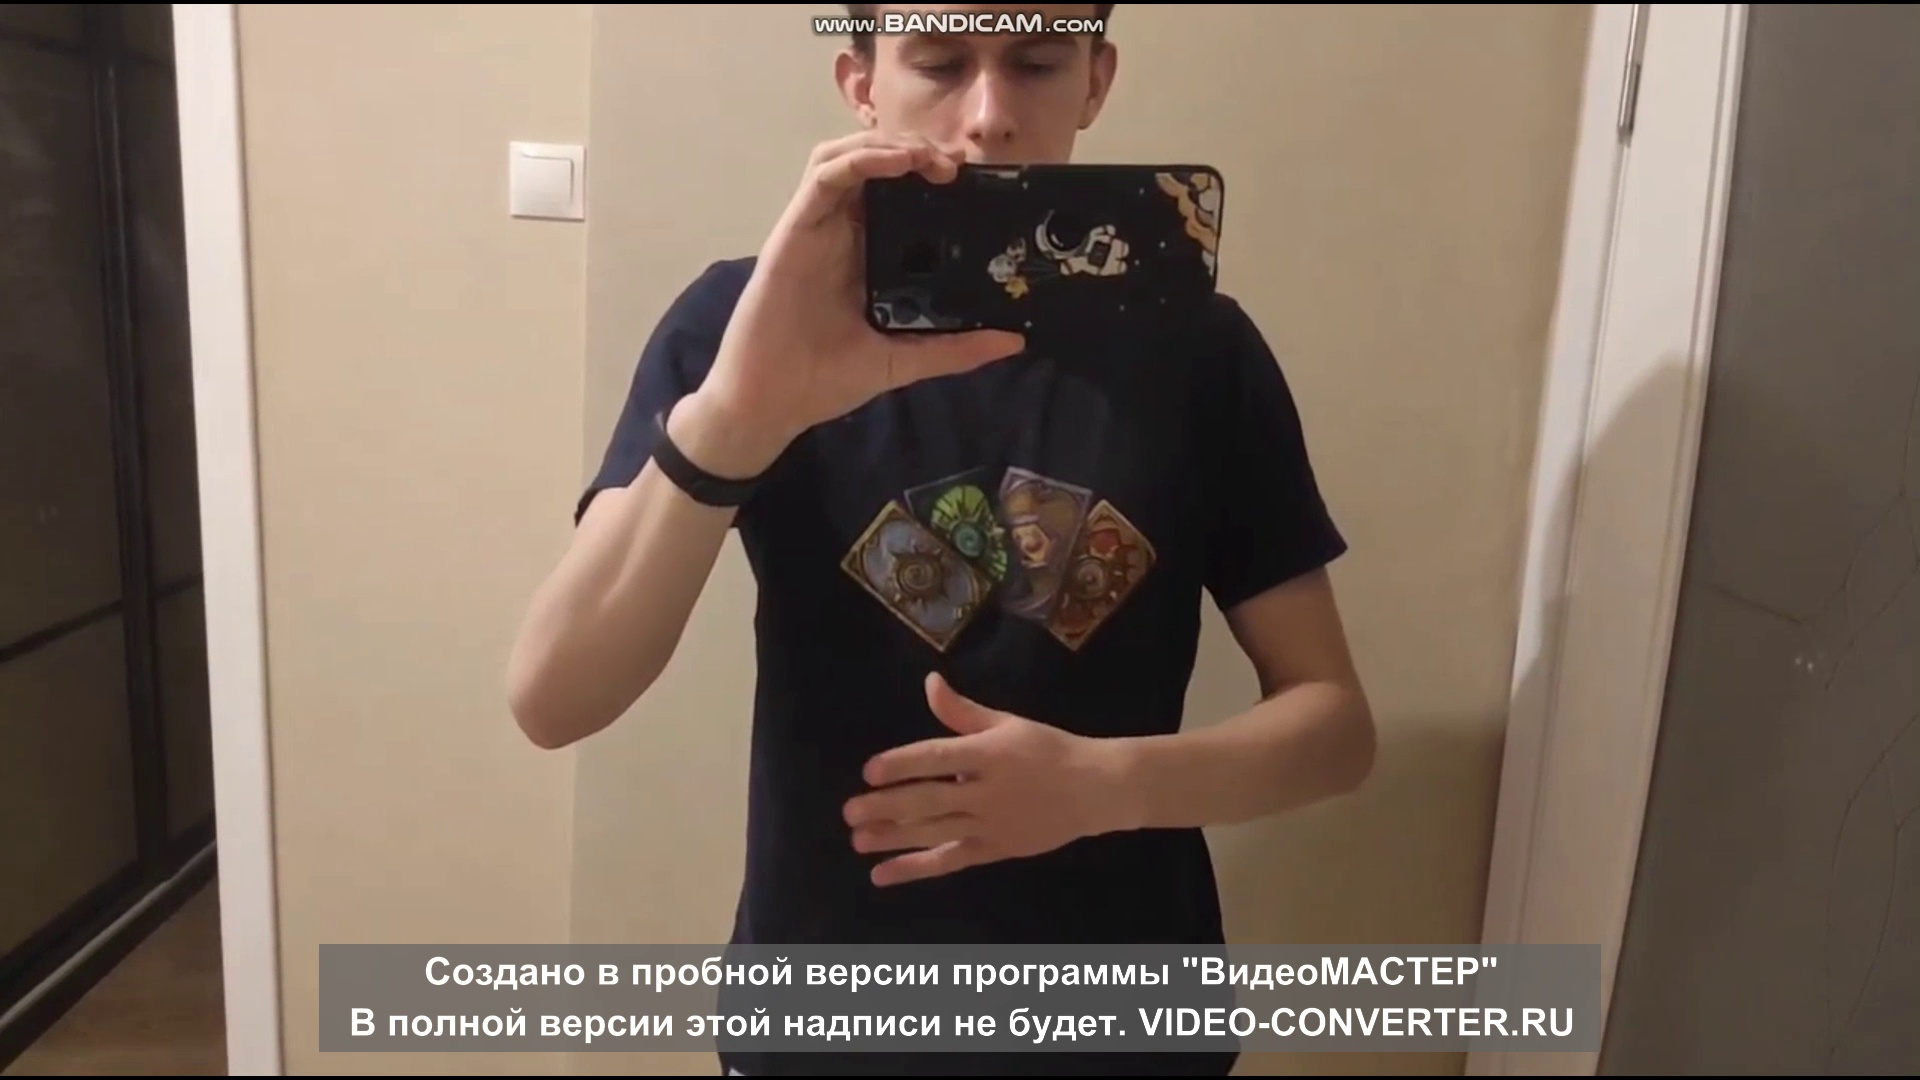Кисть: (841, 662, 1101, 887)
